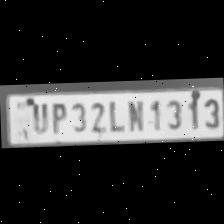1: (144, 95, 162, 130), (182, 94, 200, 128)
2: (86, 97, 106, 132)
3: (67, 96, 87, 132), (162, 94, 182, 130), (200, 93, 220, 128)
L: (104, 96, 124, 132)
N: (123, 96, 145, 130)
P: (47, 99, 67, 133)
U: (26, 98, 48, 134)
